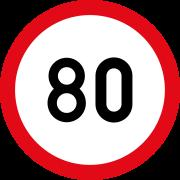Speed Limit -80-: (21, 32, 154, 146)
